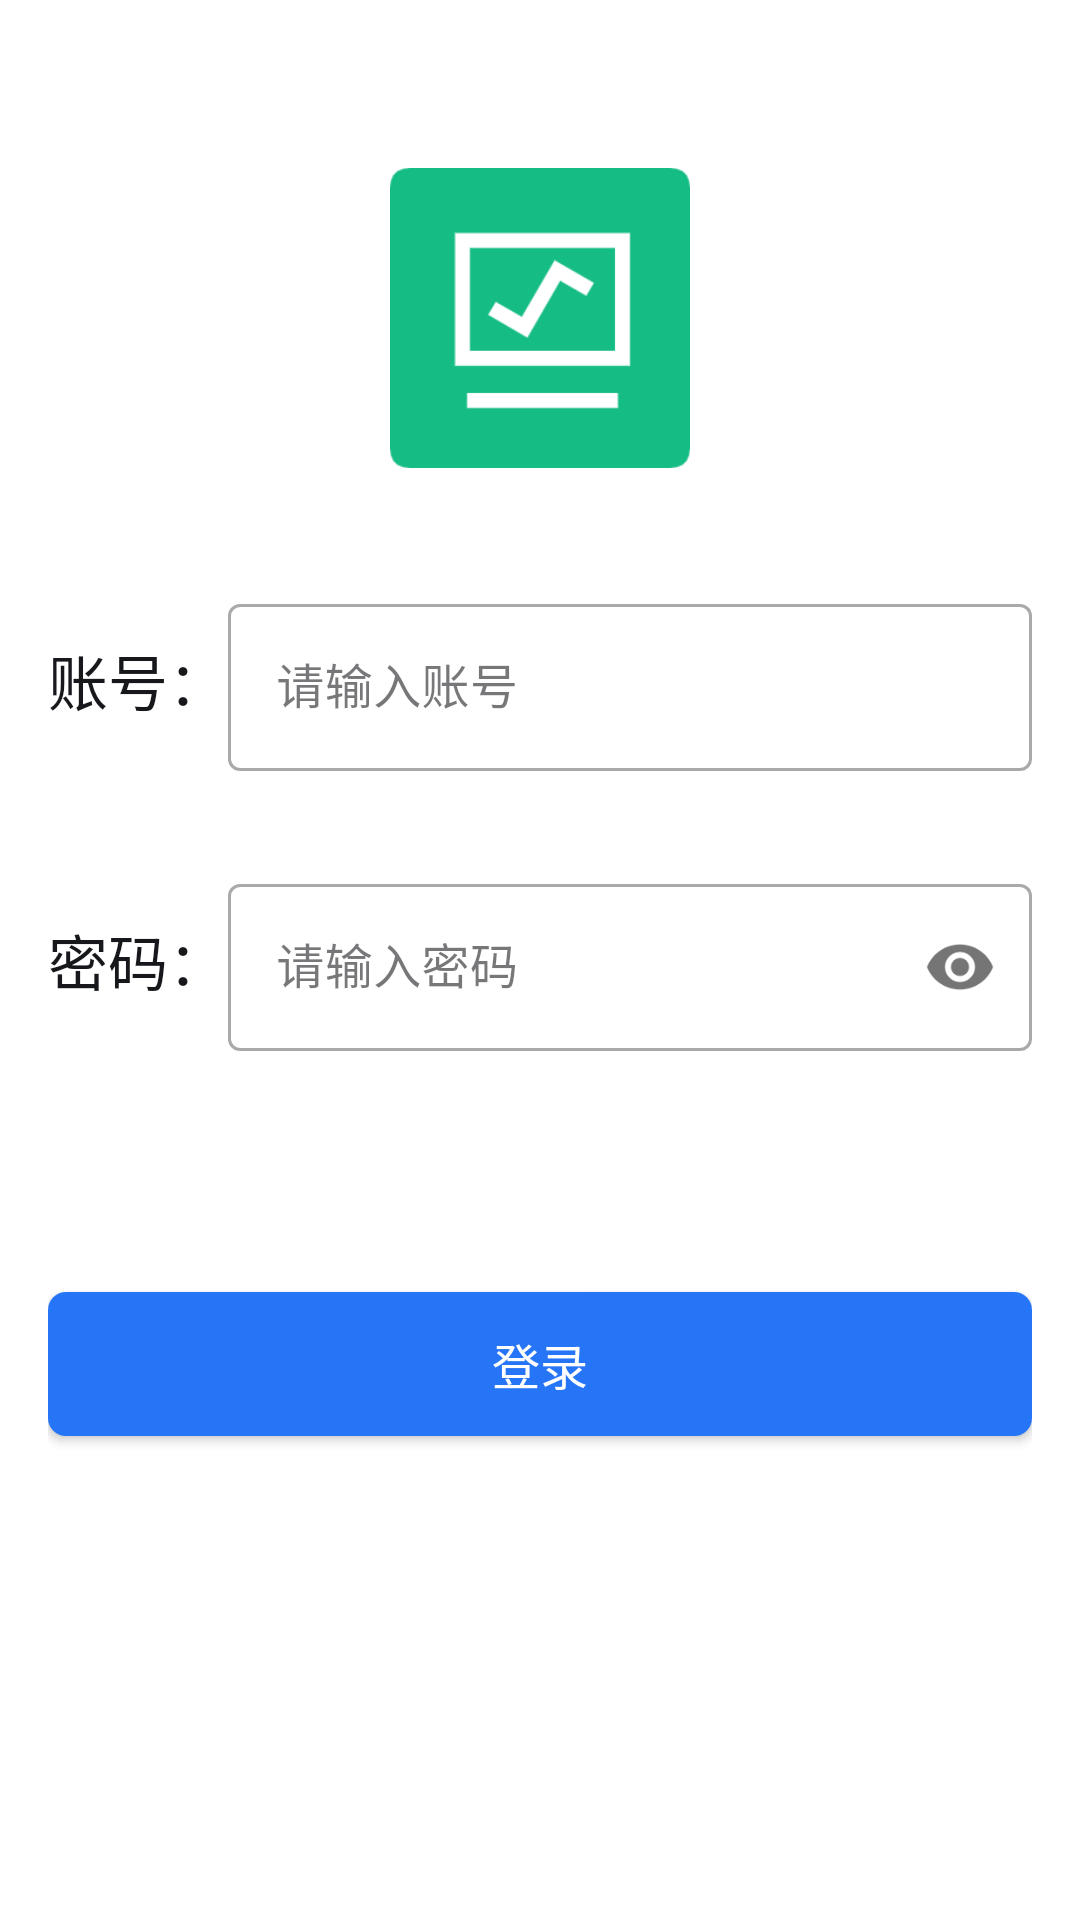

Screen size 1080 × 1920. Icon name, then its box in pixels as (x1, y1, x2, y2):
app: (390, 168, 690, 468)
